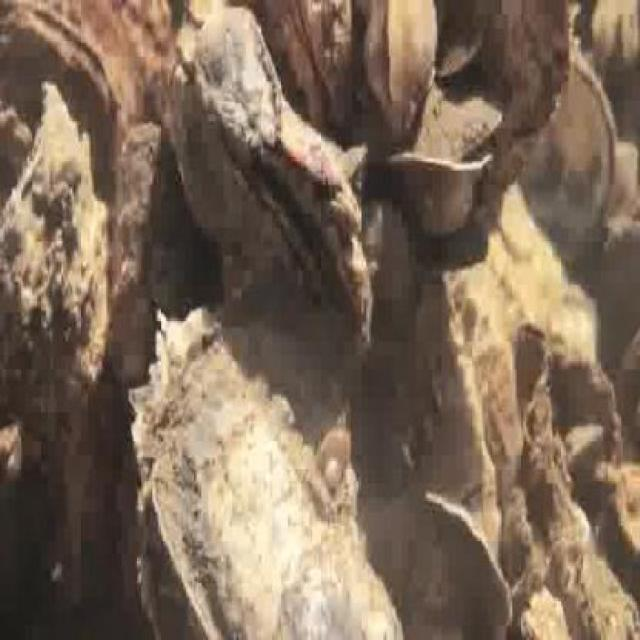Oyster-Closed: (171, 25, 373, 327), (1, 11, 121, 197), (525, 52, 619, 261)
Oyster-Indeterminate: (129, 304, 407, 640), (0, 100, 114, 441), (110, 121, 191, 382), (467, 0, 564, 181), (270, 0, 354, 140), (200, 7, 282, 139), (363, 0, 440, 137)
